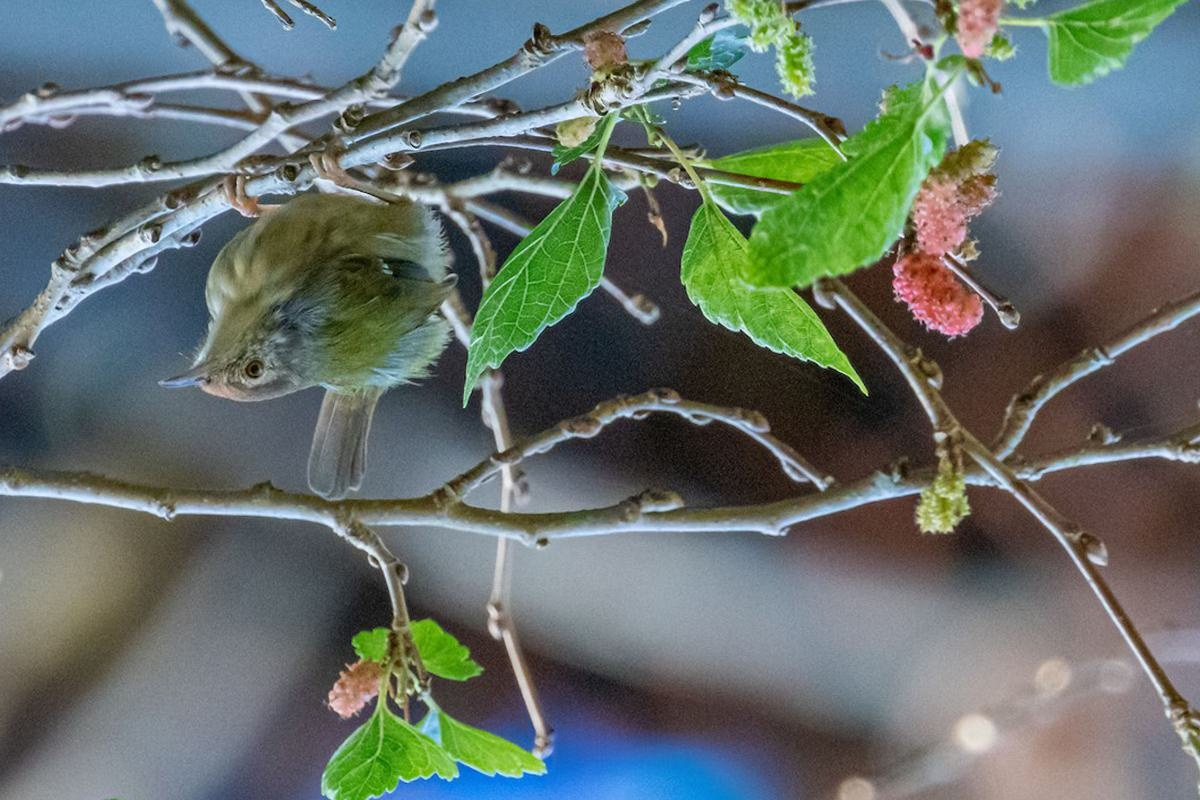tailorbird: (177, 154, 506, 451)
